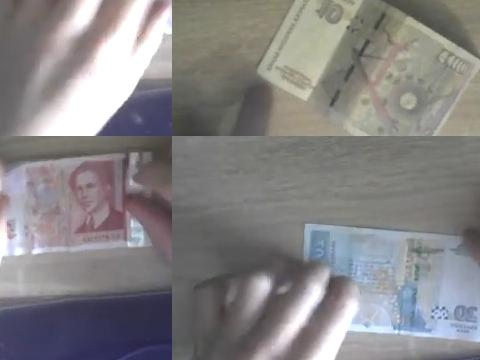10leva: (256, 0, 480, 136)
20leva: (304, 221, 480, 342)
5leva: (4, 153, 147, 256)
